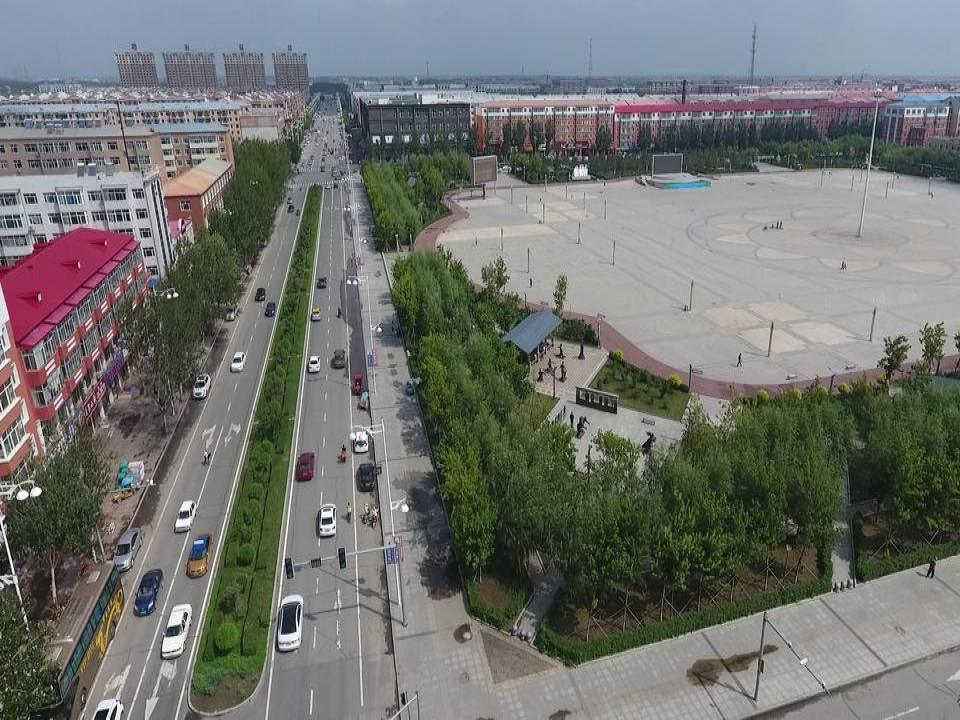bus: (19, 560, 125, 720)
car: (160, 602, 192, 658), (275, 595, 306, 652), (132, 568, 164, 617), (110, 525, 142, 572), (185, 533, 213, 579), (172, 500, 197, 532), (316, 503, 337, 537), (355, 461, 376, 494), (188, 373, 212, 400), (295, 451, 316, 481), (227, 349, 246, 372), (352, 430, 370, 454), (332, 347, 346, 369), (307, 355, 320, 373), (264, 301, 276, 319), (253, 288, 267, 303), (315, 276, 327, 289), (310, 307, 321, 321)
truck: (223, 303, 237, 321)
